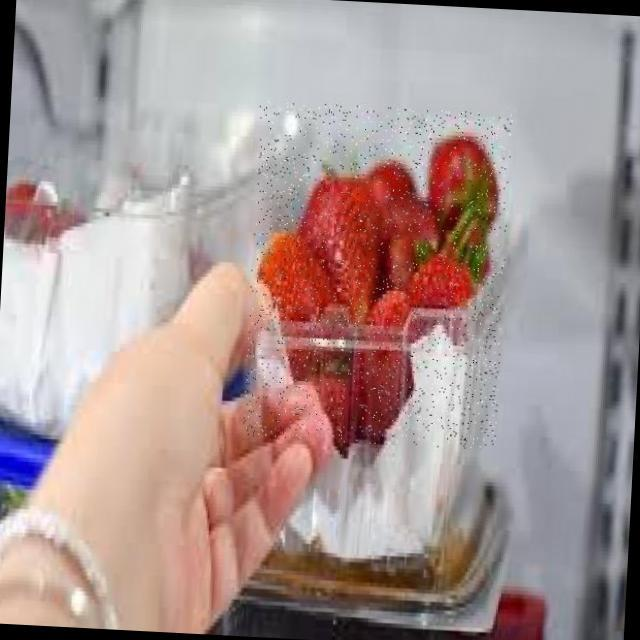strawberries: (243, 101, 513, 450)
